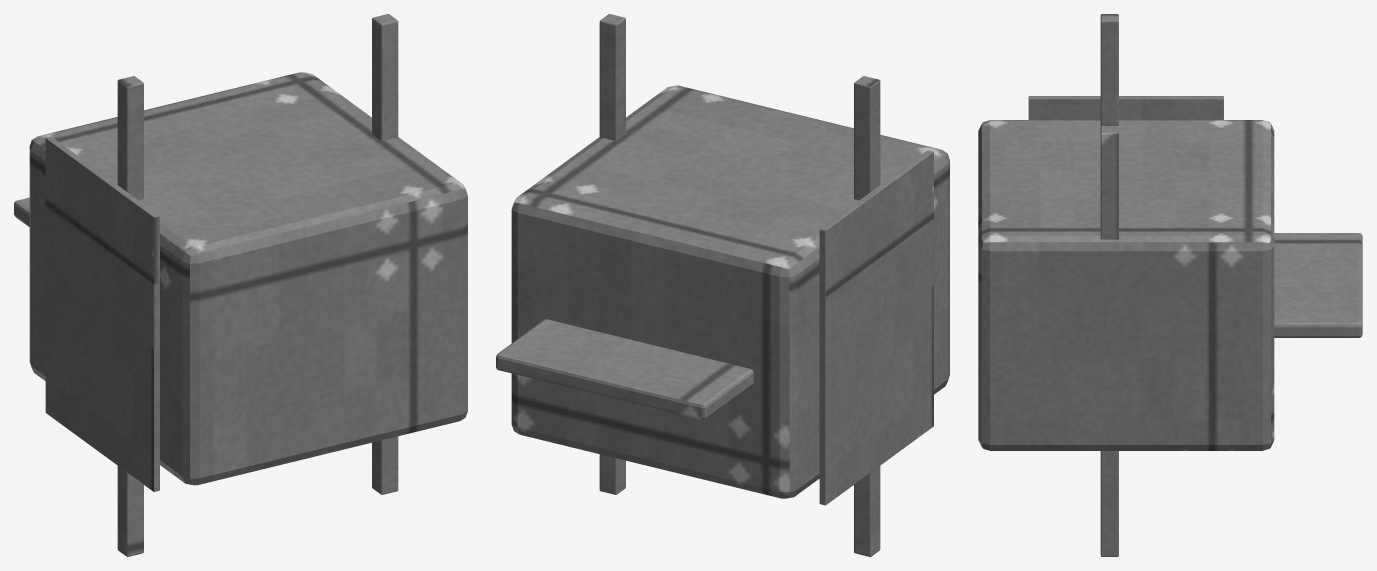
Rendered from hull_5.glb.
3 views of the same model, side by side, from view 1: azimuth 30°, elevation 25°; view 2: azimuth 150°, elevation 25°; view 3: azimuth 270°, elevation 25° (orthographic). The views are drawn at different scales.
Parts seen in each view (by area): view 1: hull_5; view 2: hull_5; view 3: hull_5.
Boxes of the visible parts, x1,y1,x2,y2 form: hull_5: (14,14,467,556); hull_5: (496,14,949,556); hull_5: (978,14,1362,556).
Bounding box in the file's own units: 0.922 × 1.42 × 1.17.
1 material, 1 textured.
